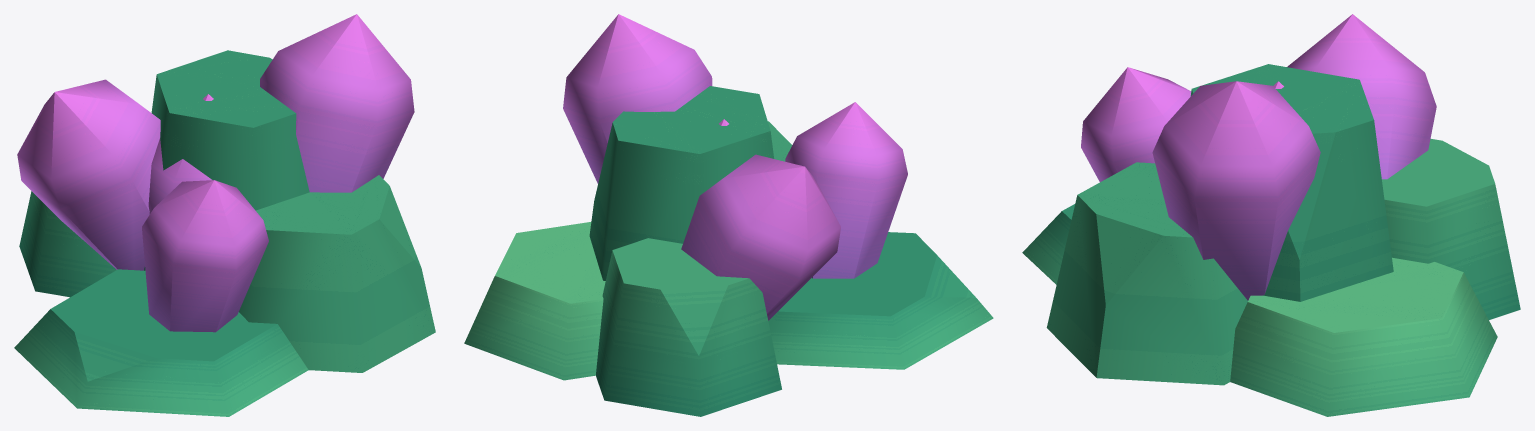
Rendered from pickup.glb.
The picture shows the model from 3 angles, left to right: view 1: azimuth 30°, elevation 25°; view 2: azimuth 150°, elevation 25°; view 3: azimuth 270°, elevation 25°; orthographic projection. The views are drawn at different scales.
Visible parts, largest first — view 1: detail-crystal-large, detail-crystal; view 2: detail-crystal-large; view 3: detail-crystal-large.
Boxes of the visible parts, x1=… form: detail-crystal-large: x1=14, y1=14, x2=435, y2=416; detail-crystal: x1=148, y1=94, x2=213, y2=214; detail-crystal-large: x1=464, y1=14, x2=993, y2=416; detail-crystal-large: x1=1022, y1=14, x2=1520, y2=416.
Size of the model in its own units: 0.8922 by 0.5518 by 0.8593.
Materials: 1 (1 with a texture image).
